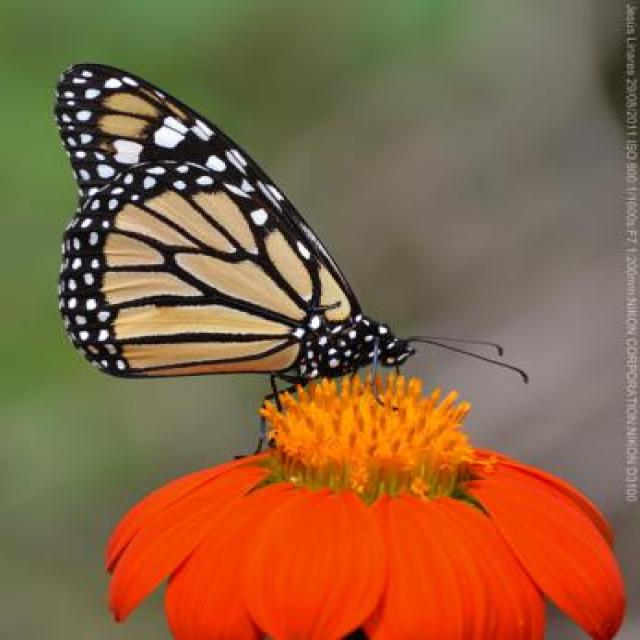antennae: (399, 319, 539, 384)
body: (286, 311, 417, 385)
insect: (52, 56, 530, 464)
legs: (240, 374, 407, 462)
wings: (56, 64, 360, 379)
